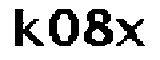0: (46, 8, 79, 47)
8: (81, 7, 115, 50)
k: (9, 4, 43, 51)
x: (116, 15, 146, 49)
